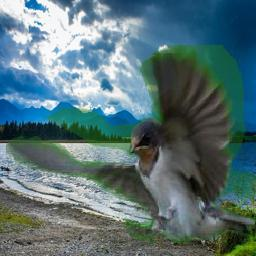Swallow: (7, 45, 256, 243)
